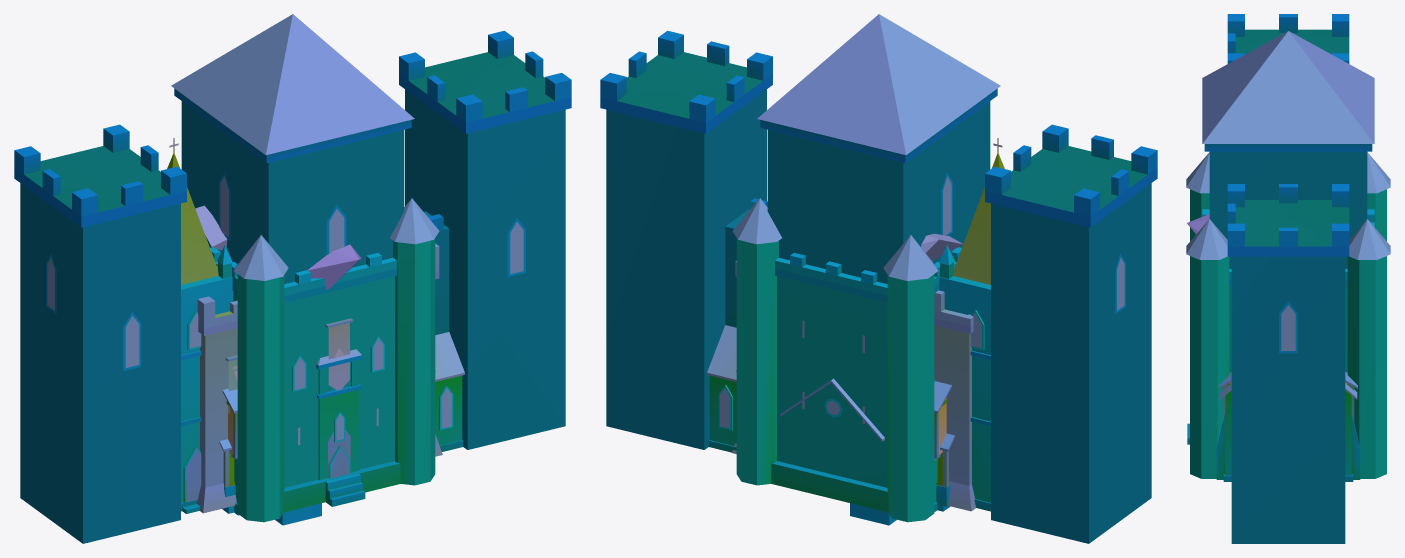
The model's file is kit_vale.glb.
3 views of the same model, side by side, from view 1: azimuth 30°, elevation 25°; view 2: azimuth 150°, elevation 25°; view 3: azimuth 270°, elevation 25° (orthographic). The views are drawn at different scales.
Parts seen in each view (by area): view 1: vale_keep_towers, vale_keep, vale_church, vale_keep_gate, vale_chapel, vale_giant_trunk, vale_guildhall; view 2: vale_keep_towers, vale_keep, vale_church, vale_keep_gate, vale_guildhall, vale_chapel, vale_hall, vale_giant_trunk; view 3: vale_keep_towers, vale_keep, vale_church, vale_guildhall.
Boxes of the visible parts, x1=… form: vale_keep_towers: x1=14, y1=14, x2=571, y2=543; vale_keep: x1=210, y1=198, x2=439, y2=522; vale_church: x1=167, y1=138, x2=464, y2=513; vale_keep_gate: x1=196, y1=243, x2=442, y2=513; vale_chapel: x1=316, y1=349, x2=362, y2=479; vale_giant_trunk: x1=195, y1=205, x2=361, y2=289; vale_guildhall: x1=222, y1=388, x2=237, y2=506; vale_keep_towers: x1=600, y1=14, x2=1157, y2=543; vale_keep: x1=732, y1=198, x2=961, y2=522; vale_church: x1=707, y1=138, x2=1004, y2=511; vale_keep_gate: x1=732, y1=261, x2=975, y2=511; vale_guildhall: x1=934, y1=381, x2=951, y2=506; vale_chapel: x1=780, y1=378, x2=884, y2=466; vale_hall: x1=936, y1=433, x2=954, y2=506; vale_giant_trunk: x1=921, y1=233, x2=963, y2=260; vale_keep_towers: x1=1202, y1=14, x2=1374, y2=543; vale_keep: x1=1186, y1=152, x2=1390, y2=478; vale_church: x1=1216, y1=383, x2=1360, y2=481; vale_guildhall: x1=1219, y1=372, x2=1357, y2=423.
Size of the model in its own units: 32.5 by 31.4 by 12.96.
